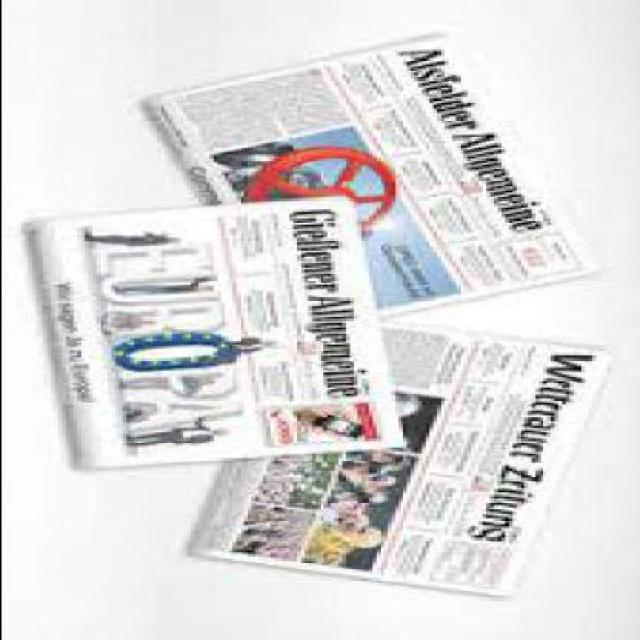paper: (137, 32, 595, 317), (186, 326, 617, 597), (16, 194, 410, 468)
